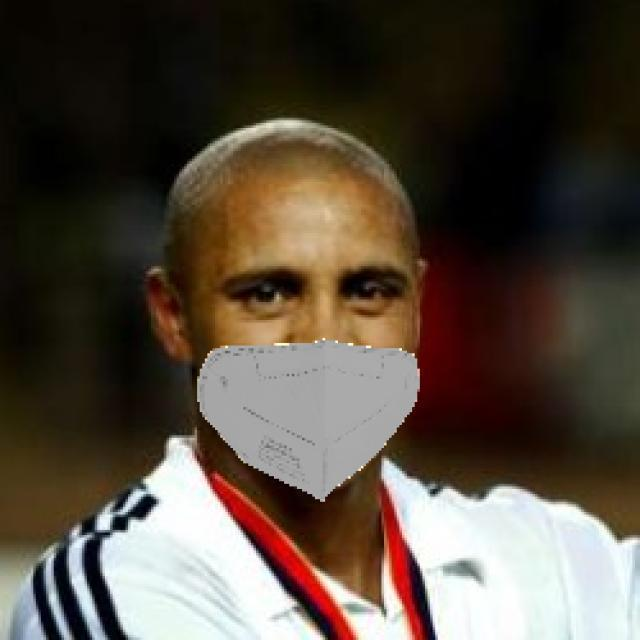kn95: (184, 200, 422, 498)
